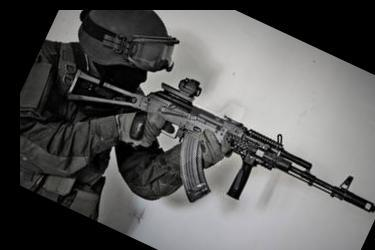larga: (64, 67, 375, 214)
